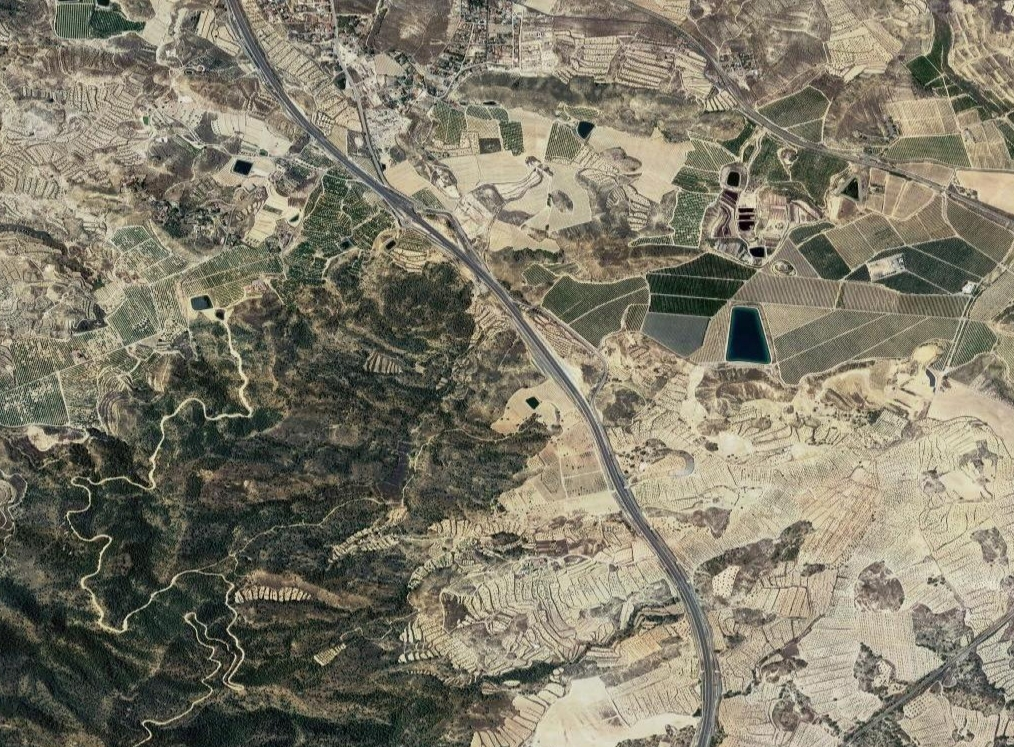motorway: (356, 164, 527, 330), (524, 329, 645, 524), (221, 1, 360, 167), (637, 525, 715, 747)
